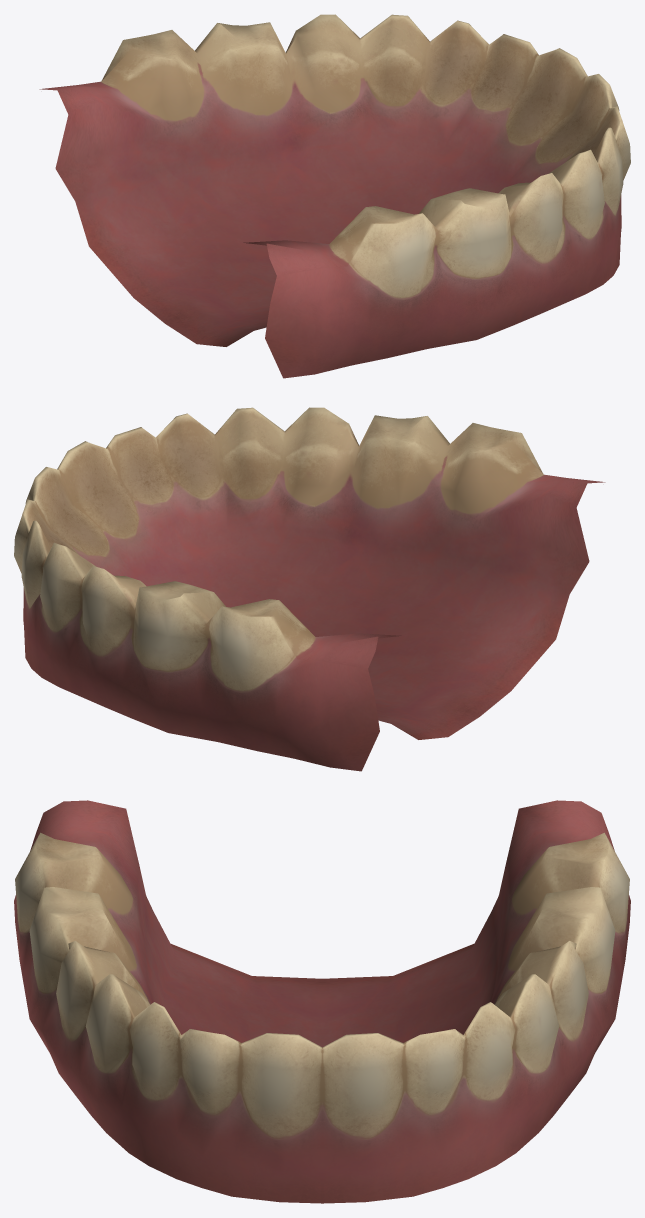
File: mouth_dn.glb
3 renders of one model, top to bottom at view 1: azimuth 30°, elevation 25°; view 2: azimuth 150°, elevation 25°; view 3: azimuth 270°, elevation 25°, orthographic. The views are drawn at different scales.
Visible parts, largest first — view 1: Plane.005; view 2: Plane.005; view 3: Plane.005.
Part boxes in pixels (x1,y1,x2,y2): Plane.005: (39, 14, 630, 378); Plane.005: (14, 407, 605, 771); Plane.005: (14, 800, 630, 1203).
Size of the model in its own units: 0.1221 by 0.0462 by 0.1275.
Materials: 1 (1 with a texture image).
